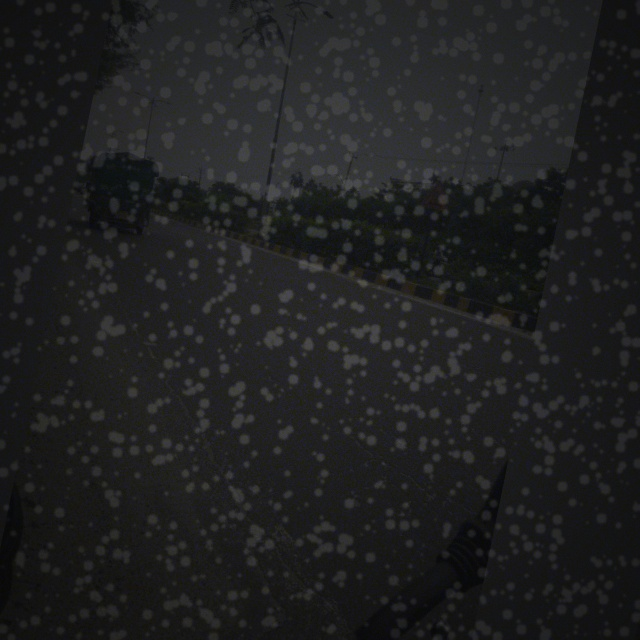Hump_or_Rough_Road: (415, 173, 456, 218)
